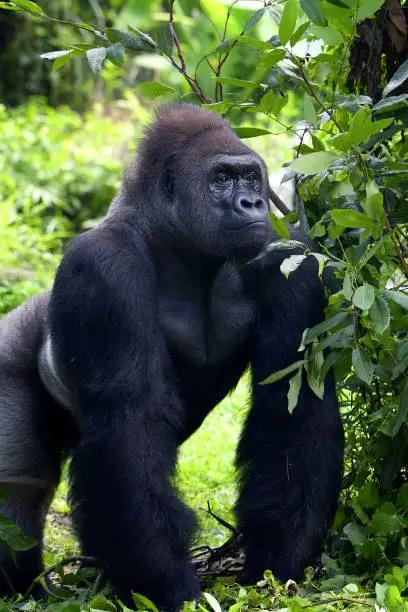gorille_Autres: (10, 81, 407, 612)
